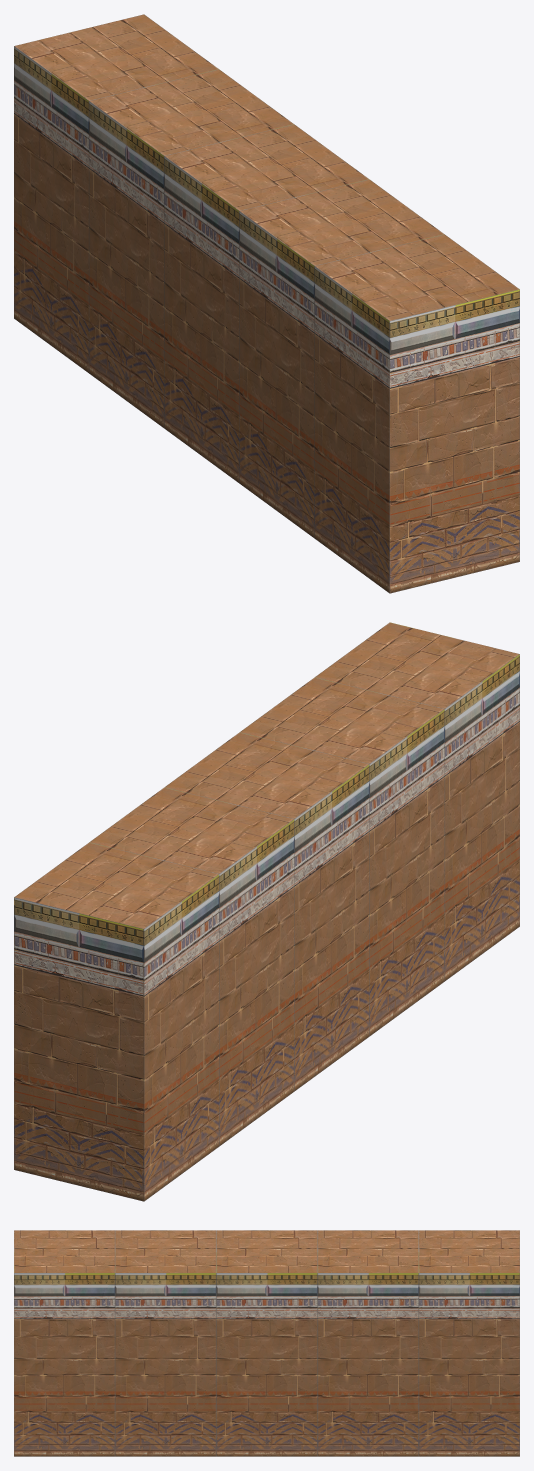
The model's file is longwall_5units.fbx.
3 views of the same model, one above another, from view 1: azimuth 30°, elevation 25°; view 2: azimuth 150°, elevation 25°; view 3: azimuth 270°, elevation 25° (orthographic). The views are drawn at different scales.
Visible parts, largest first — view 1: pCube1, pCube2, pCube3, pCube4, pCube5; view 2: pCube5, pCube4, pCube2, pCube3, pCube1; view 3: pCube1, pCube2, pCube3, pCube4, pCube5.
Part boxes in pixels (left/top/right/bottom): pCube1: left=314, top=234, right=519, bottom=593; pCube2: left=239, top=179, right=444, bottom=538; pCube3: left=164, top=124, right=369, bottom=482; pCube4: left=89, top=69, right=293, bottom=427; pCube5: left=14, top=14, right=218, bottom=372; pCube5: left=14, top=842, right=219, bottom=1201; pCube4: left=89, top=787, right=294, bottom=1146; pCube2: left=239, top=677, right=444, bottom=1035; pCube3: left=164, top=732, right=369, bottom=1090; pCube1: left=314, top=622, right=519, bottom=980; pCube1: left=14, top=1230, right=115, bottom=1456; pCube2: left=115, top=1230, right=216, bottom=1456; pCube3: left=216, top=1230, right=317, bottom=1456; pCube4: left=317, top=1230, right=418, bottom=1456; pCube5: left=418, top=1230, right=519, bottom=1456.
Size of the model in its own units: 1 by 2 by 5.
1 material, 1 textured.
